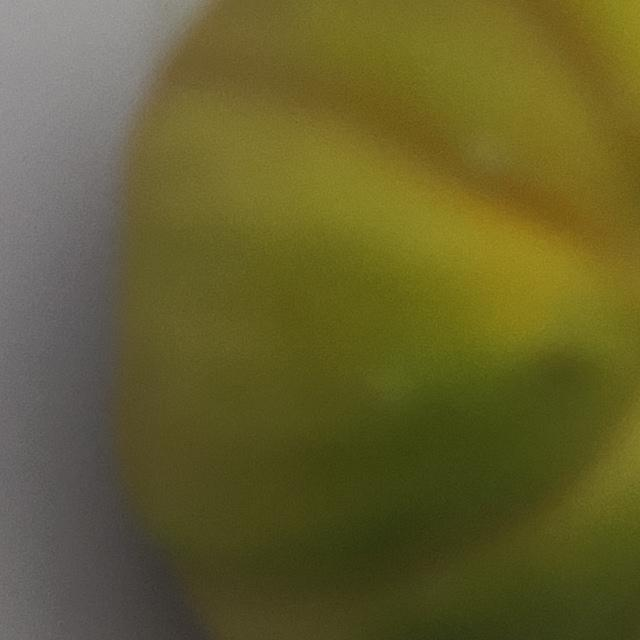tomato: (18, 0, 640, 640)
